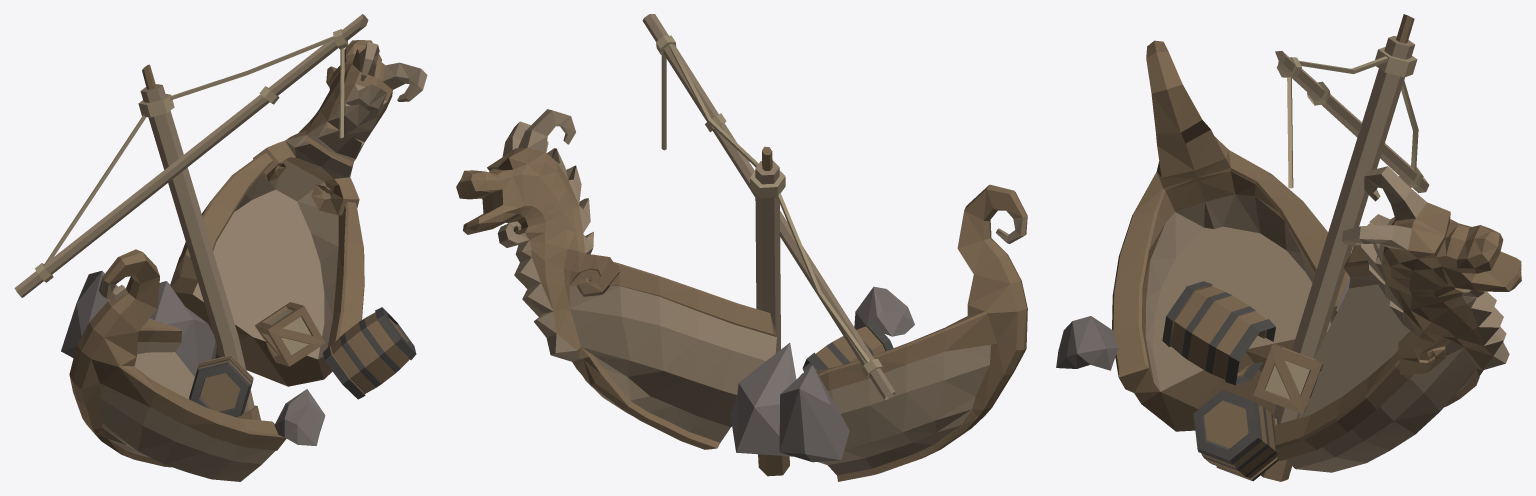
Rendered from shipwreck.fbx.
3 renders of one model, left to right at view 1: azimuth 30°, elevation 25°; view 2: azimuth 150°, elevation 25°; view 3: azimuth 270°, elevation 25°, orthographic. The views are drawn at different scales.
Visible parts, largest first — view 1: shipwreck; view 2: shipwreck; view 3: shipwreck.
Part boxes in pixels (x1,y1,x2,y2): shipwreck: (14,14,427,481); shipwreck: (456,14,1027,481); shipwreck: (1056,14,1521,481).
Size of the model in its own units: 3.5 by 3.26 by 2.77.
